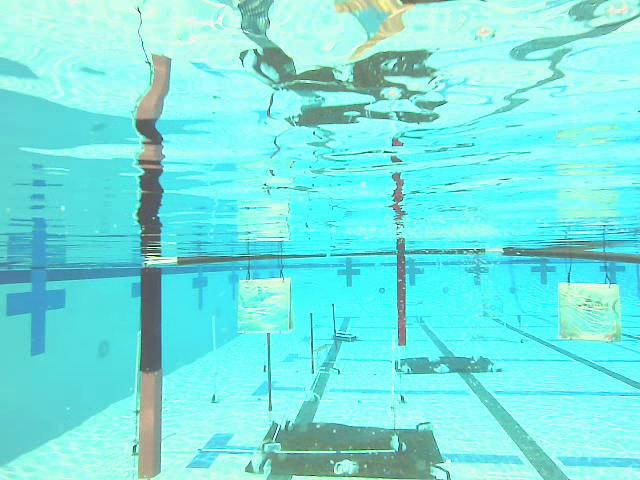left_gate_poster: (135, 267, 167, 480)
shark: (237, 279, 293, 336)
swordfish: (555, 282, 623, 349)
